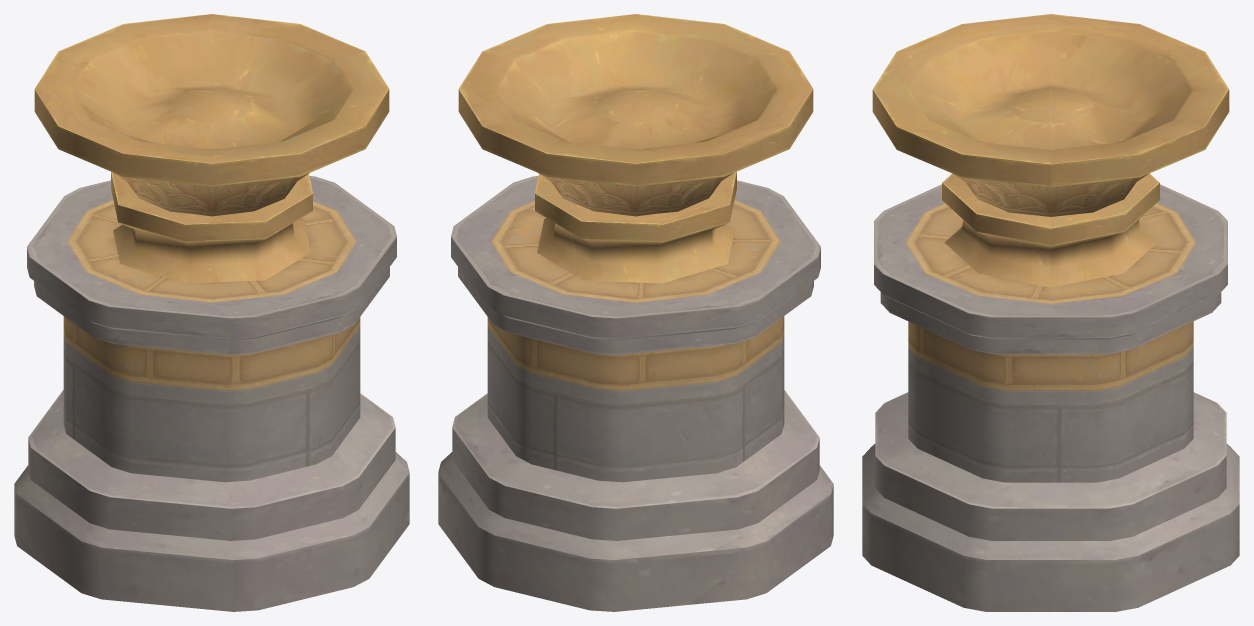
The model's file is Homeworld_Exterior_Fd_Decoration_Prop_Huopen_01_Vo.fbx.
3 renders of one model, left to right at view 1: azimuth 30°, elevation 25°; view 2: azimuth 150°, elevation 25°; view 3: azimuth 270°, elevation 25°, orthographic.
Parts seen in each view (by area): view 1: Area_Fd_Prop_SPD_Huopen_01_Vo; view 2: Area_Fd_Prop_SPD_Huopen_01_Vo; view 3: Area_Fd_Prop_SPD_Huopen_01_Vo.
Boxes of the visible parts, x1=… form: Area_Fd_Prop_SPD_Huopen_01_Vo: x1=14, y1=14, x2=409, y2=611; Area_Fd_Prop_SPD_Huopen_01_Vo: x1=438, y1=14, x2=833, y2=611; Area_Fd_Prop_SPD_Huopen_01_Vo: x1=862, y1=14, x2=1239, y2=611.
Bounding box in the file's own units: 1.43 × 1.85 × 1.43.
